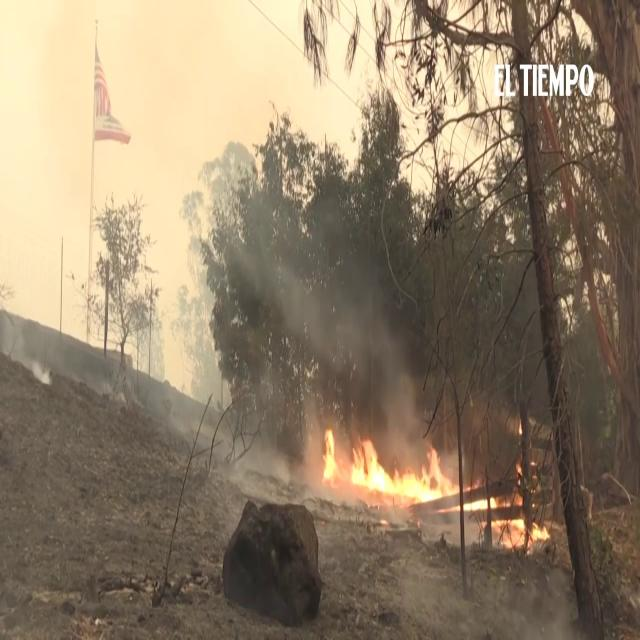fire: (352, 441, 448, 506), (322, 427, 338, 482)
smoke: (242, 199, 352, 335), (155, 267, 216, 415)
